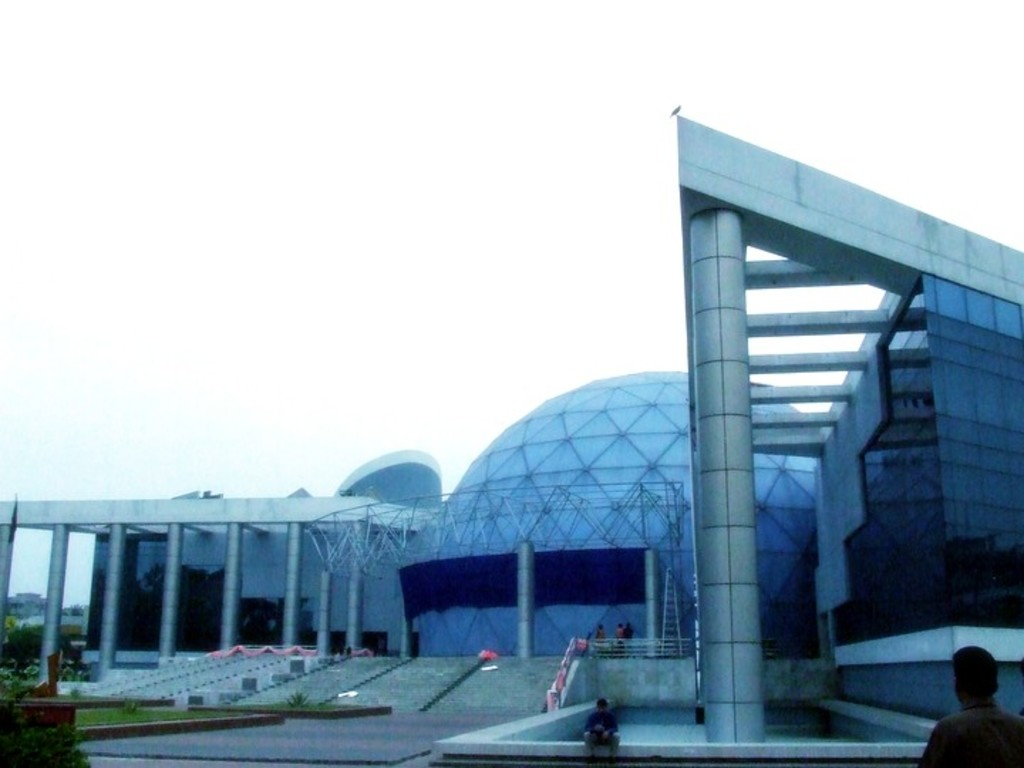Person: (582, 692, 625, 761), (593, 620, 606, 656), (621, 621, 632, 644), (615, 622, 623, 642)
